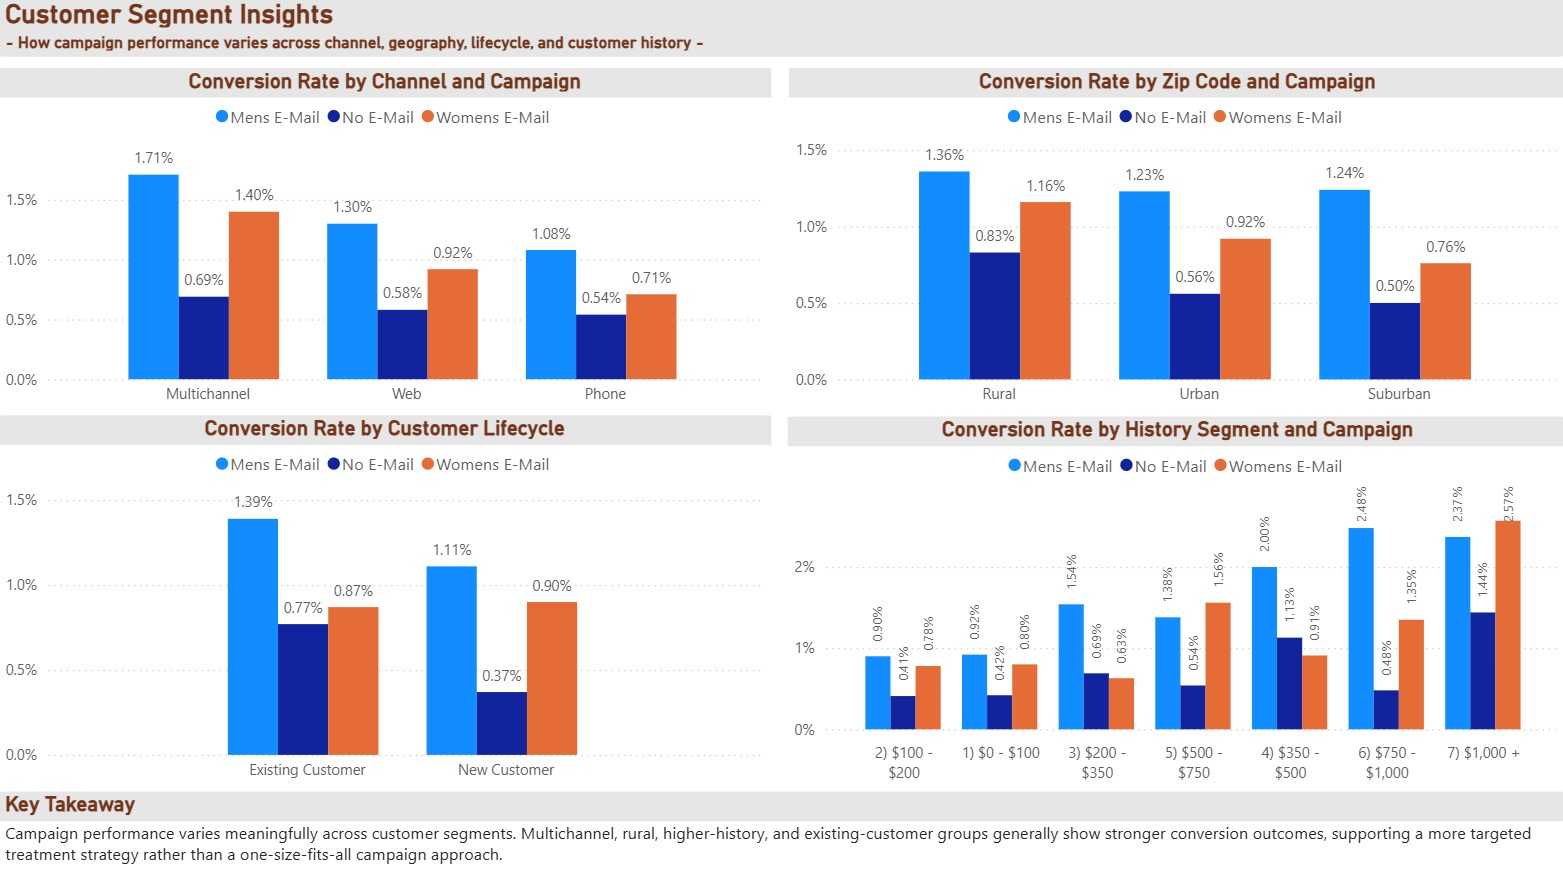

The page's visual inventory and layout, read from the dashboard file:
{"tool":"powerbi","page":{"name":"Customer Segment Insights","canvas":[1280,720],"ordinal":2},"visuals":[{"type":"textbox","title":"Customer Segment Insights","box":[0,0,1279,29],"z":0},{"type":"textbox","title":"- How campaign performance varies across channel, geography, lifecycle, and customer history -","box":[0,29,1279,20],"z":1000},{"type":"clusteredColumnChart","title":"Conversion Rate by Channel and Campaign","fields":{"Y":["Sum(Channel Campaign Summary.conversion_rate)"],"Category":["Channel Campaign Summary.channel_name"],"Series":["Channel Campaign Summary.segment"]},"box":[0,57,630,284],"z":2000},{"type":"clusteredColumnChart","title":"Conversion Rate by Zip Code and Campaign","fields":{"Category":["Zip Campaign Summary.zip_code_name"],"Y":["Sum(Zip Campaign Summary.conversion_rate)"],"Series":["Zip Campaign Summary.segment"]},"box":[645.1,57.3,634.1,284.1],"z":3000},{"type":"clusteredColumnChart","title":"Conversion Rate by Customer Lifecycle","fields":{"Y":["Sum(Newbie Campaign Summary.conversion_rate)"],"Category":["Newbie Campaign Summary.Customer Lifecycle"],"Series":["Newbie Campaign Summary.segment"]},"box":[0,341,630,307],"z":4000},{"type":"clusteredColumnChart","title":"Conversion Rate by History Segment and Campaign","fields":{"Y":["Sum(History Segment Campaign Summary.conversion_rate)"],"Series":["History Segment Campaign Summary.segment"],"Category":["History Segment Campaign Summary.history_segment"]},"box":[643.9,341.5,636.6,306.1],"z":5000},{"type":"textbox","title":"Key Takeaway","box":[0,648,1279,72],"z":6000}]}

Visuals, with their boxes in screenshot pixels (x1, y1, x2, y2), scaled from the page's 1280x720 canvas onto the 1563x878 screenshot:
"Customer Segment Insights" textbox: bbox=(0, 0, 1562, 35)
"- How campaign performance varies across channel, geography, lifecycle, and customer history -" textbox: bbox=(0, 35, 1562, 60)
"Conversion Rate by Channel and Campaign" clusteredColumnChart: bbox=(0, 70, 769, 416)
"Conversion Rate by Zip Code and Campaign" clusteredColumnChart: bbox=(788, 70, 1562, 416)
"Conversion Rate by Customer Lifecycle" clusteredColumnChart: bbox=(0, 416, 769, 790)
"Conversion Rate by History Segment and Campaign" clusteredColumnChart: bbox=(786, 416, 1562, 790)
"Key Takeaway" textbox: bbox=(0, 790, 1562, 877)
